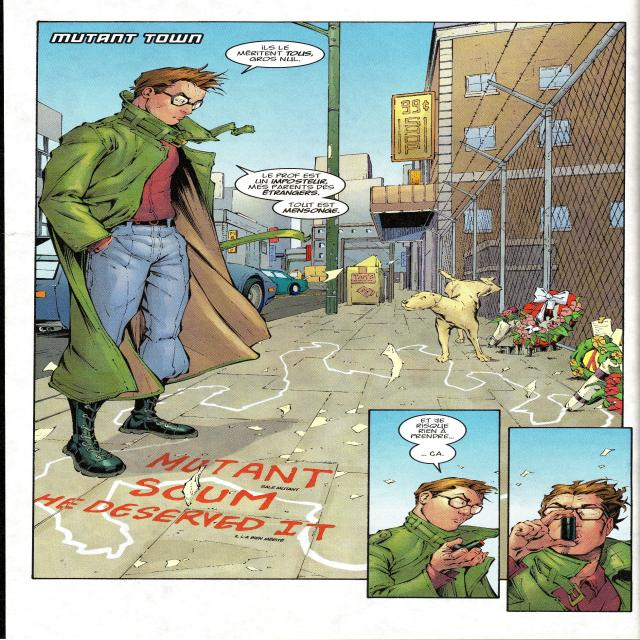comic_panel: (32, 20, 628, 582), (367, 408, 502, 599), (507, 427, 632, 612)
